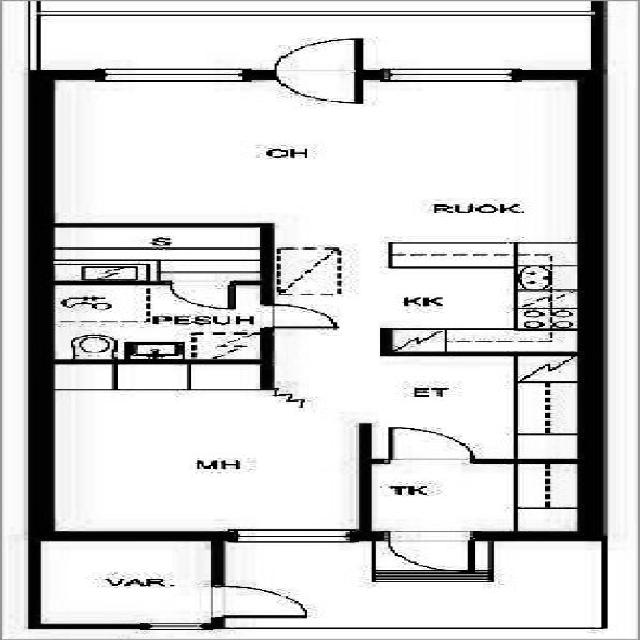door: (38, 537, 224, 627), (272, 34, 369, 109), (196, 581, 328, 620), (377, 423, 486, 466), (380, 530, 476, 571), (254, 302, 348, 331), (165, 280, 240, 310), (127, 618, 220, 635)
window: (83, 63, 264, 87), (375, 64, 531, 85), (220, 526, 360, 546)
zone: (47, 76, 591, 230), (49, 362, 360, 535), (376, 230, 594, 354), (45, 282, 269, 362), (367, 460, 591, 536), (36, 537, 217, 627), (40, 225, 269, 281)
